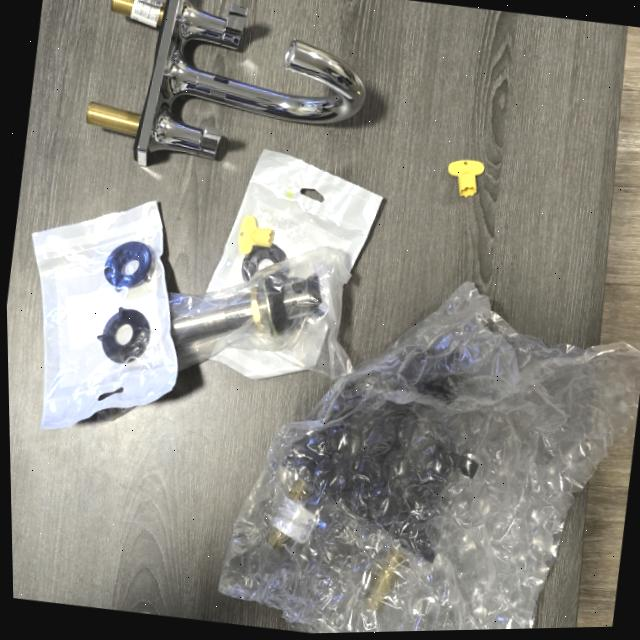10: (86, 0, 364, 165)
11o: (168, 246, 350, 379)
12o: (207, 150, 381, 292)
13: (32, 201, 177, 429)
14: (447, 160, 483, 197)
9c: (219, 283, 640, 633)
